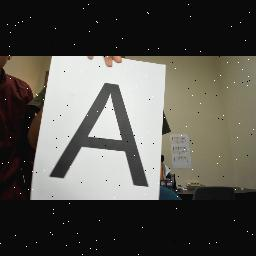a: (42, 74, 158, 190)
